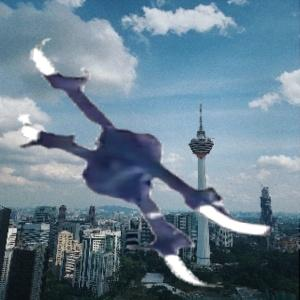drone: (5, 3, 300, 298)
